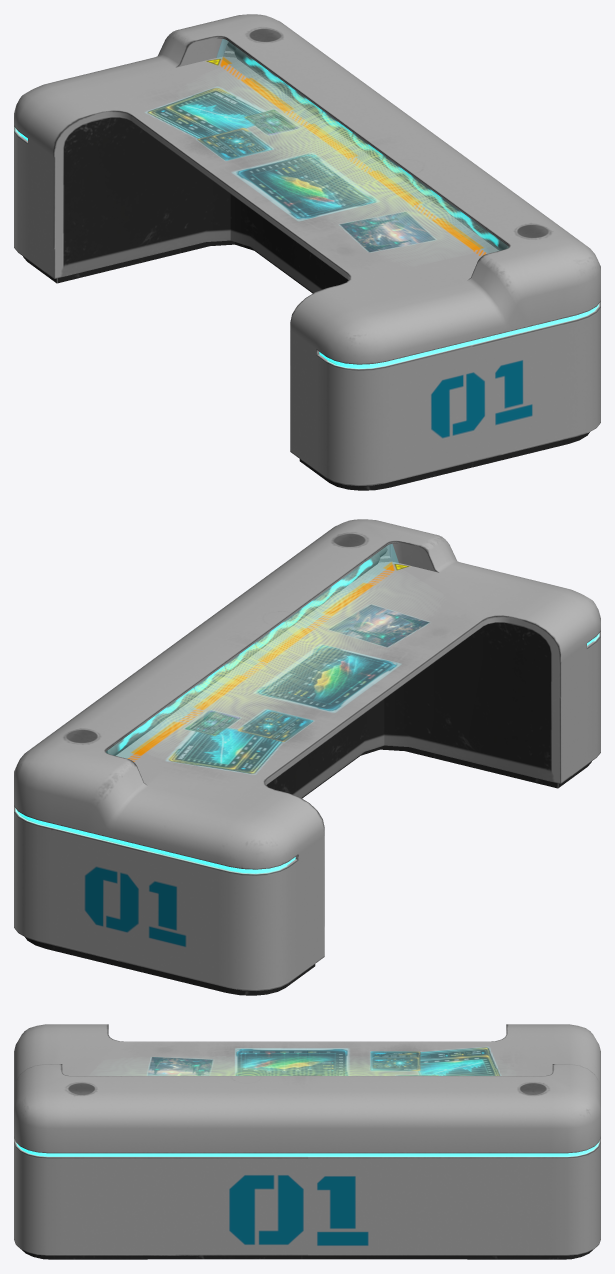
File: lumen_hologram_table.glb
3 views of the same model, one above another, from view 1: azimuth 30°, elevation 25°; view 2: azimuth 150°, elevation 25°; view 3: azimuth 270°, elevation 25° (orthographic). The views are drawn at different scales.
Parts seen in each view (by area): view 1: table_holi, Glass, shaft; view 2: table_holi, Glass, shaft; view 3: table_holi.
Part boxes in pixels (box(x1,y1,x2,y2)): table_holi: box(14, 14, 600, 490); Glass: box(216, 39, 508, 253); shaft: box(227, 42, 508, 250); table_holi: box(14, 519, 600, 995); Glass: box(106, 544, 398, 758); shaft: box(106, 547, 387, 755); table_holi: box(14, 1024, 600, 1259).
Bounding box in the file's own units: 1.3 × 0.8503 × 2.9.
1 material, 1 textured.
